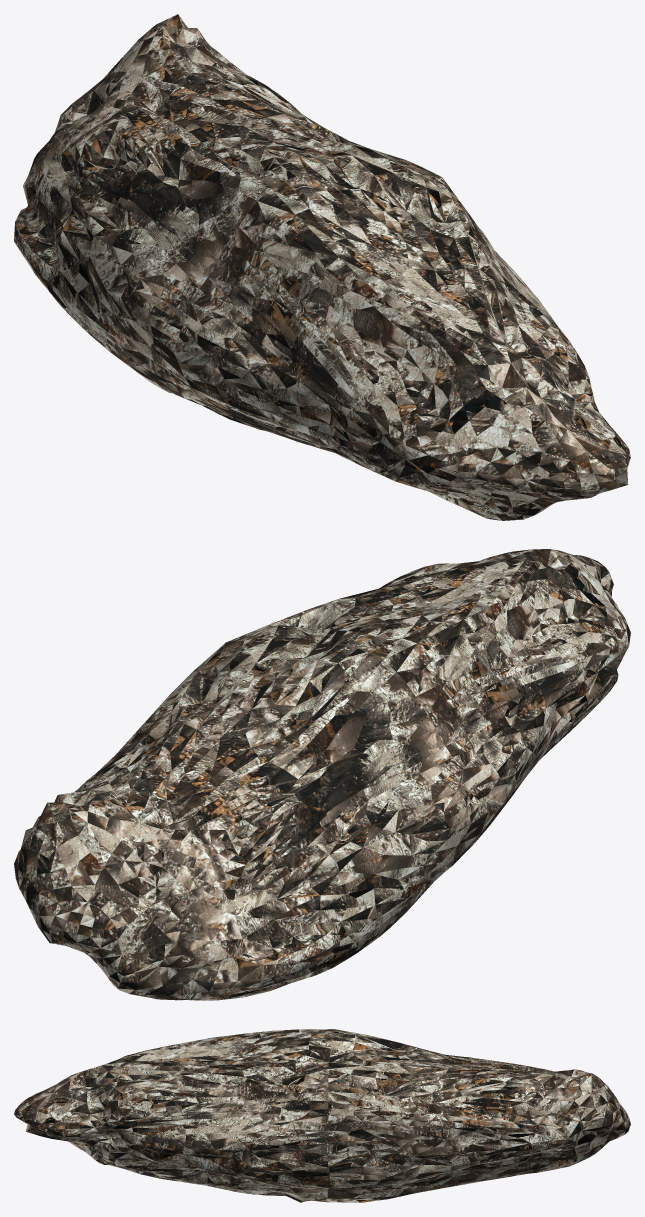
Rendered from Bueno.glb.
The picture shows the model from 3 angles, top to bottom: view 1: azimuth 30°, elevation 25°; view 2: azimuth 150°, elevation 25°; view 3: azimuth 270°, elevation 25°; orthographic projection. The views are drawn at different scales.
Visible parts, largest first — view 1: root; view 2: root; view 3: root.
Part boxes in pixels (x1,y1,x2,y2): root: (14,14,630,520); root: (14,549,630,1000); root: (14,1029,630,1202).
Size of the model in its own units: 0.4084 by 0.3398 by 1.24.
1 material, 1 textured.
